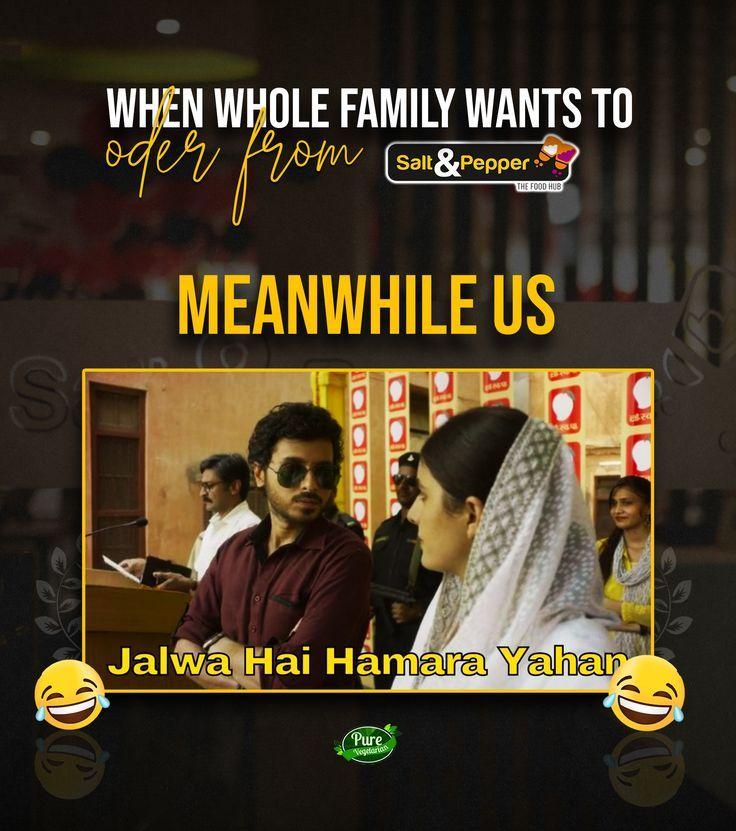CTA: (102, 94, 362, 224)
Headline: (98, 80, 640, 135)
logo: (378, 132, 580, 201)
